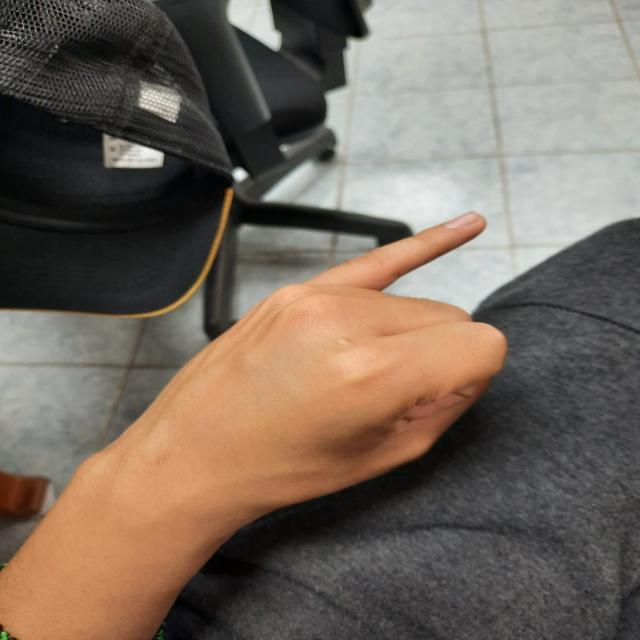Z: (96, 187, 548, 549)
